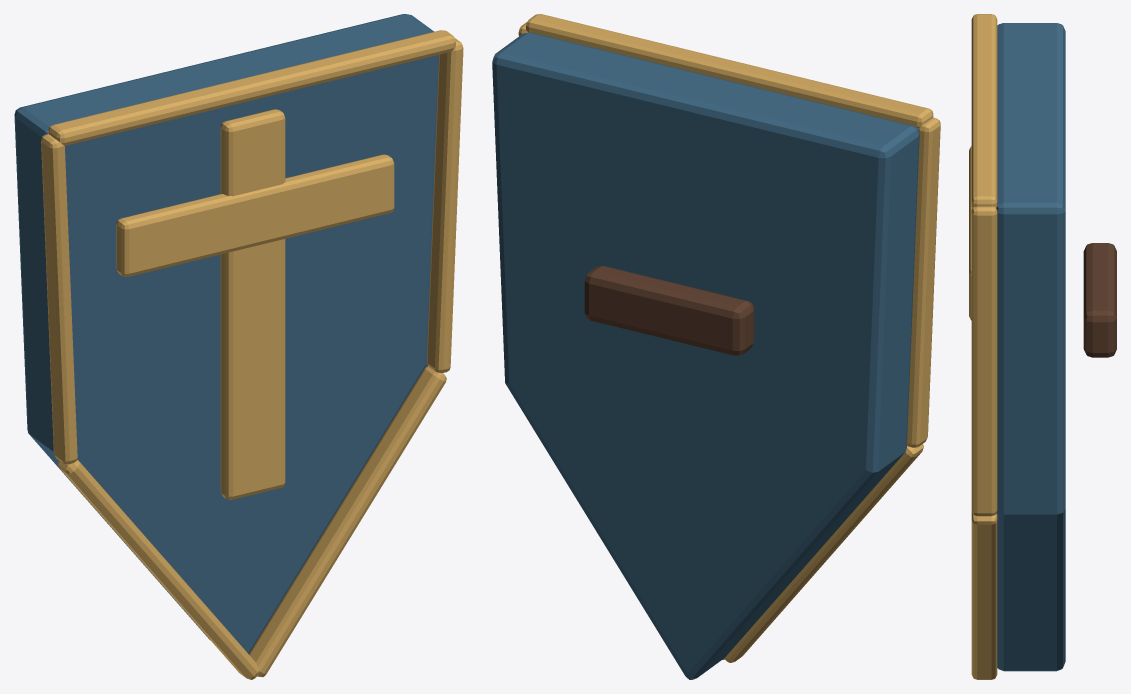
The model's file is guard_shield.glb.
The picture shows the model from 3 angles, left to right: view 1: azimuth 30°, elevation 25°; view 2: azimuth 150°, elevation 25°; view 3: azimuth 270°, elevation 25°; orthographic projection. The views are drawn at different scales.
Visible parts, largest first — view 1: guard_shield__structure, guard_shield__finish; view 2: guard_shield__structure, guard_shield__finish; view 3: guard_shield__structure, guard_shield__finish.
Part boxes in pixels (x1,y1,x2,y2): guard_shield__structure: [14, 14, 439, 653]; guard_shield__finish: [41, 30, 463, 679]; guard_shield__structure: [492, 32, 919, 679]; guard_shield__finish: [518, 14, 940, 662]; guard_shield__structure: [996, 23, 1116, 671]; guard_shield__finish: [969, 14, 997, 679].
Bounding box in the file's own units: 0.6223 × 0.8552 × 0.2005.
